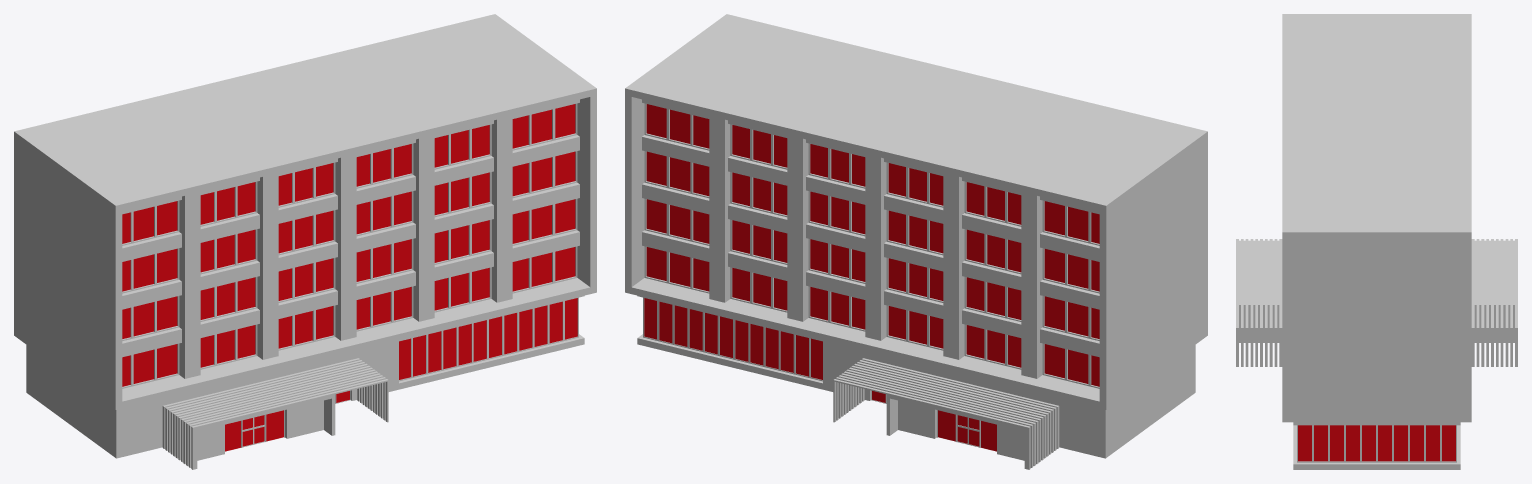
Rendered from SM_House_08.glb.
3 views of the same model, side by side, from view 1: azimuth 30°, elevation 25°; view 2: azimuth 150°, elevation 25°; view 3: azimuth 270°, elevation 25° (orthographic). The views are drawn at different scales.
Parts seen in each view (by area): view 1: House_08; view 2: House_08; view 3: House_08.
Part boxes in pixels (bbox=[...]): House_08: bbox=[14, 14, 596, 469]; House_08: bbox=[625, 14, 1207, 469]; House_08: bbox=[1236, 14, 1517, 469].
Size of the model in its own units: 37 by 19.01 by 20.18.
